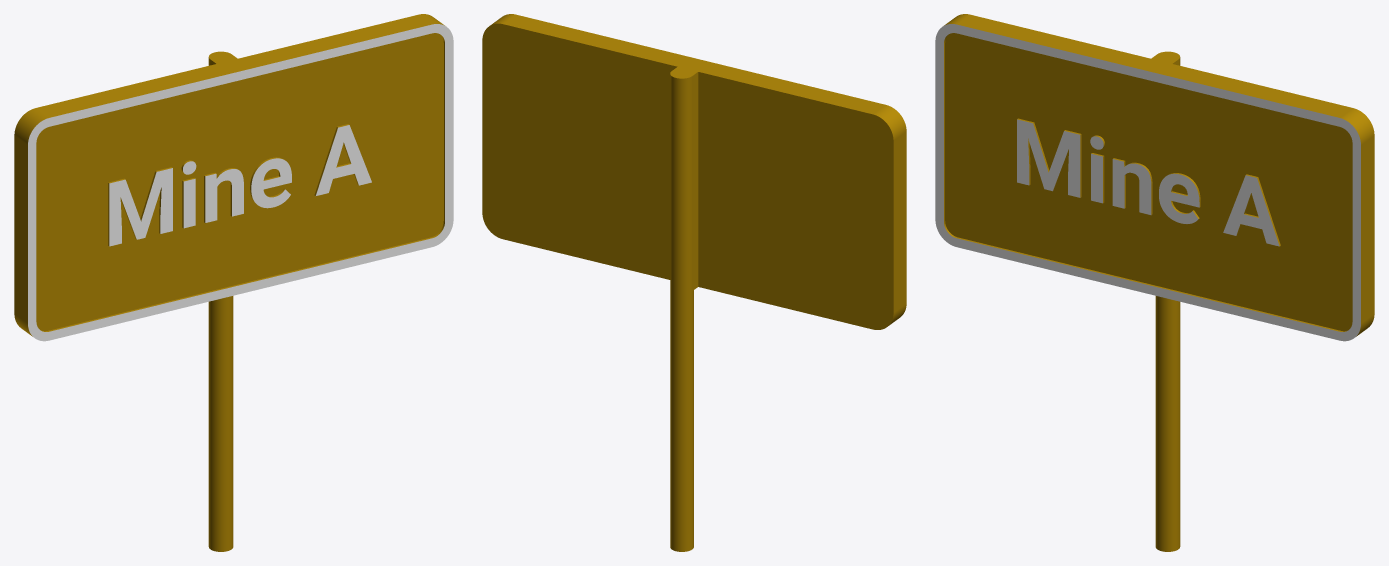
The model's file is place_A.fbx.
3 renders of one model, left to right at view 1: azimuth 30°, elevation 25°; view 2: azimuth 150°, elevation 25°; view 3: azimuth 330°, elevation 25°, orthographic. The views are drawn at different scales.
Visible parts, largest first — view 1: Part 1; view 2: Part 1; view 3: Part 1.
Boxes of the visible parts, bbox=[...] form: Part 1: bbox=[14, 14, 453, 551]; Part 1: bbox=[482, 14, 906, 551]; Part 1: bbox=[935, 14, 1374, 551].
Bounding box in the file's own units: 400 × 440 × 41.99.
